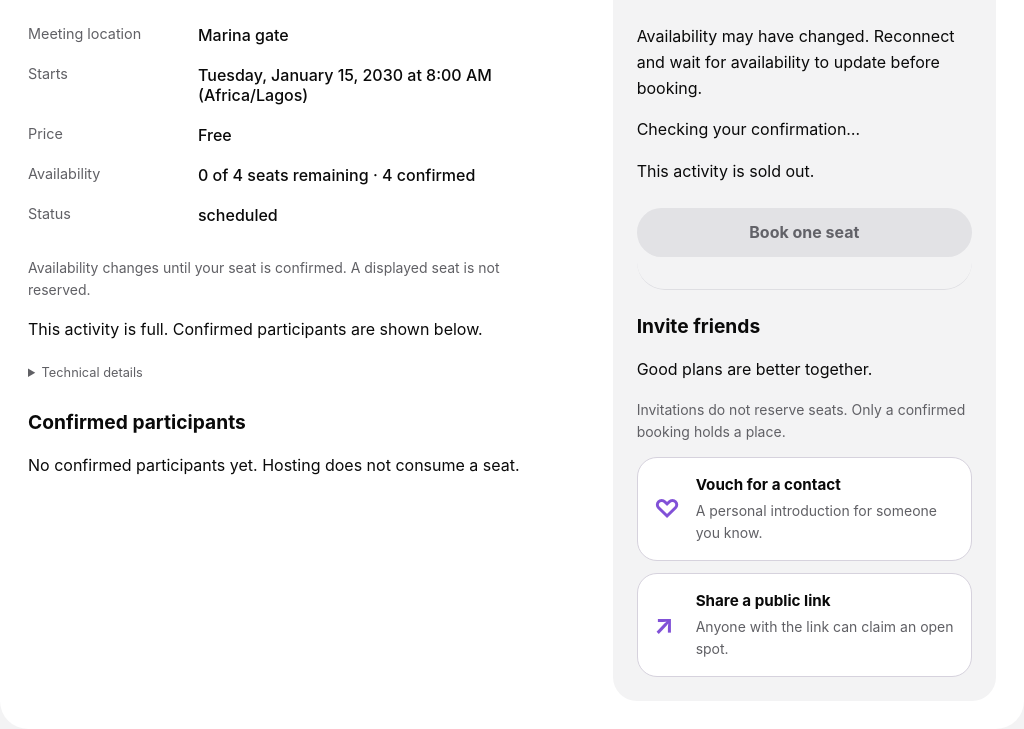
Test case: a full activity cannot be vouched for
(page scrolled)
Click the button "Vouch for a contact" at {"x": 804, "y": 509}, box [637,457,972,561]
(page scrolled)
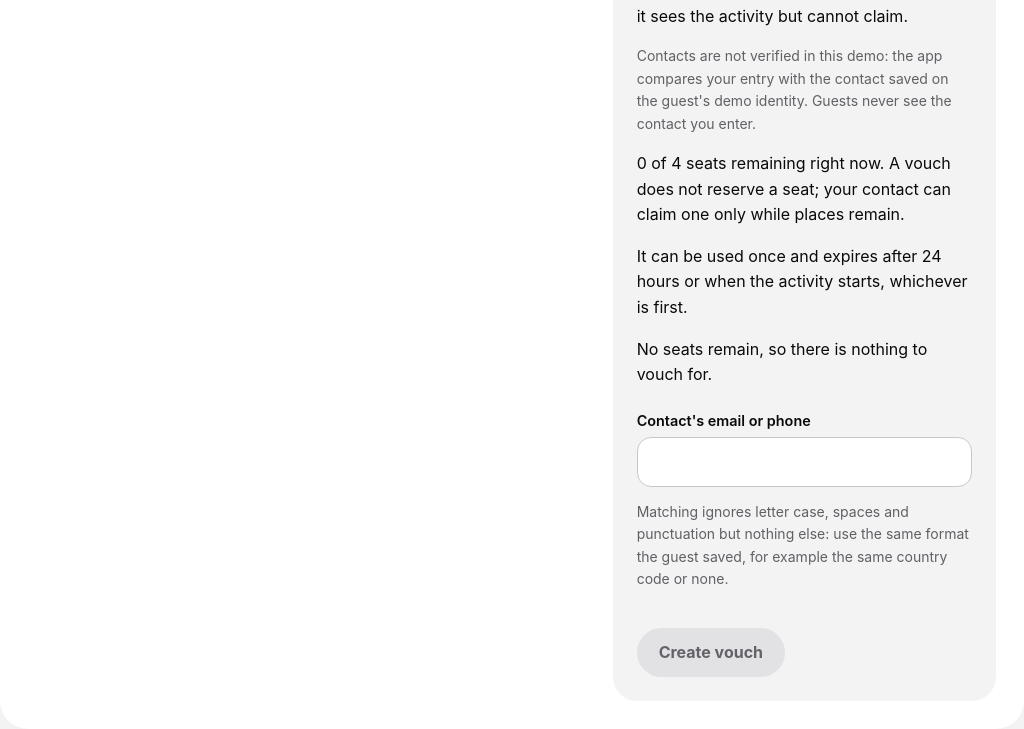
Result: the text "No seats remain, so there is nothing to vouch for." is shown at [637,337,972,388]
Result: the button "Create vouch" is disabled at [637,628,785,677]
